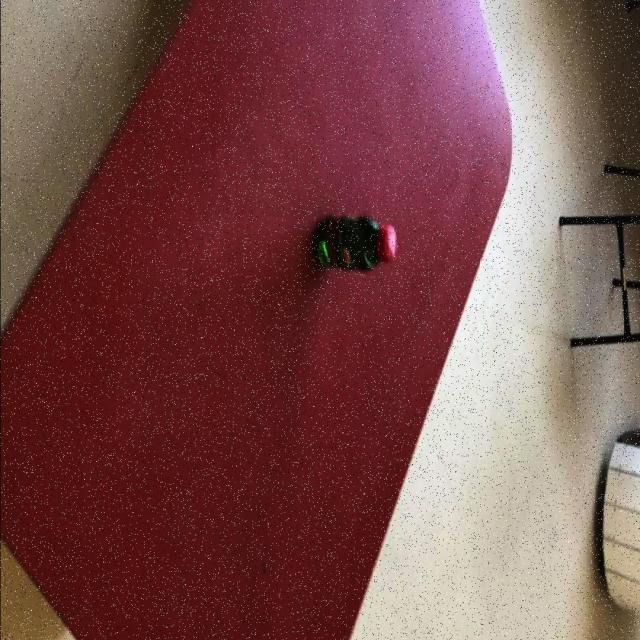Guarana: (314, 212, 398, 272)
